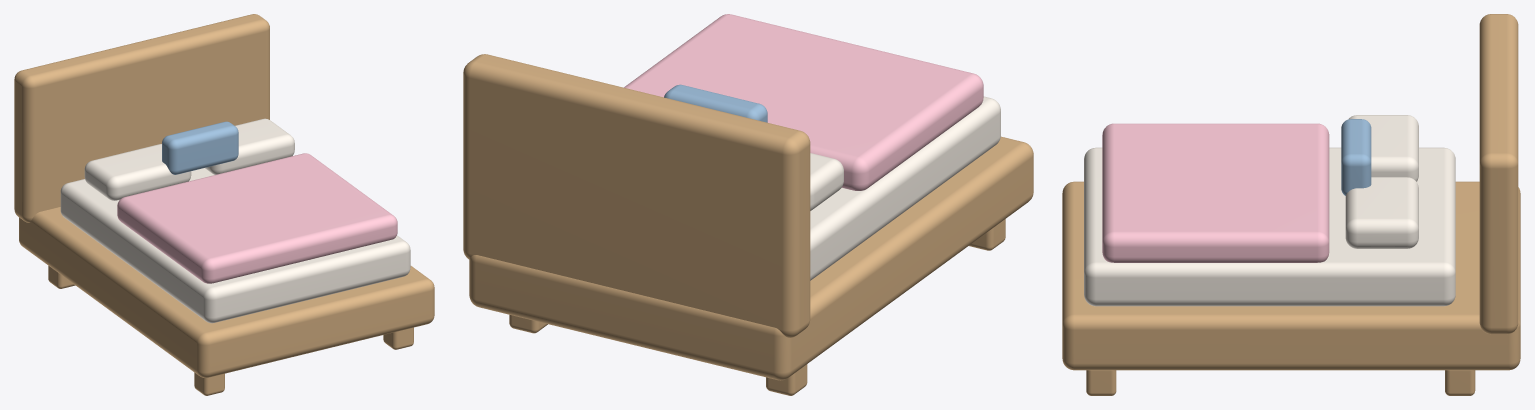
File: 目标粉木单人床.fbx
3 views of the same model, side by side, from view 1: azimuth 30°, elevation 25°; view 2: azimuth 150°, elevation 25°; view 3: azimuth 270°, elevation 25° (orthographic). The views are drawn at different scales.
Visible parts, largest first — view 1: 目标粉木单人床_木质靠背, 目标粉木单人床_浅木床架, 目标粉木单人床_柔粉被子, 目标粉木单人床_奶油床垫, 目标粉木单人床_白枕头左, 目标粉木单人床_海蓝抱枕, 目标粉木单人床_白枕头右, 目标粉木单人床_方木脚, 目标粉木单人床_方木脚.002; view 2: 目标粉木单人床_木质靠背, 目标粉木单人床_浅木床架, 目标粉木单人床_柔粉被子, 目标粉木单人床_奶油床垫, 目标粉木单人床_海蓝抱枕, 目标粉木单人床_白枕头左, 目标粉木单人床_方木脚.001, 目标粉木单人床_方木脚; view 3: 目标粉木单人床_浅木床架, 目标粉木单人床_柔粉被子, 目标粉木单人床_奶油床垫, 目标粉木单人床_木质靠背, 目标粉木单人床_白枕头右, 目标粉木单人床_白枕头左, 目标粉木单人床_海蓝抱枕, 目标粉木单人床_方木脚.003, 目标粉木单人床_方木脚.002.
Part boxes in pixels (x1,y1,x2,y2): 目标粉木单人床_木质靠背: (14,14,269,222); 目标粉木单人床_浅木床架: (19,207,434,377); 目标粉木单人床_柔粉被子: (117,153,397,283); 目标粉木单人床_奶油床垫: (60,168,410,323); 目标粉木单人床_白枕头左: (84,144,191,200); 目标粉木单人床_海蓝抱枕: (162,121,238,174); 目标粉木单人床_白枕头右: (205,118,294,174); 目标粉木单人床_方木脚: (194,372,224,395); 目标粉木单人床_方木脚.002: (383,327,413,349); 目标粉木单人床_木质靠背: (463,54,810,337); 目标粉木单人床_浅木床架: (469,136,1033,380); 目标粉木单人床_柔粉被子: (624,14,983,190); 目标粉木单人床_奶油床垫: (810,96,1000,280); 目标粉木单人床_海蓝抱枕: (664,84,767,122); 目标粉木单人床_白枕头左: (810,153,843,210); 目标粉木单人床_方木脚.001: (766,364,807,395); 目标粉木单人床_方木脚: (969,219,1005,250); 目标粉木单人床_浅木床架: (1062,181,1520,370); 目标粉木单人床_柔粉被子: (1102,123,1329,262); 目标粉木单人床_奶油床垫: (1084,147,1455,306); 目标粉木单人床_木质靠背: (1479,14,1518,334); 目标粉木单人床_白枕头右: (1345,177,1418,248); 目标粉木单人床_白枕头左: (1349,115,1418,181); 目标粉木单人床_海蓝抱枕: (1341,119,1371,195); 目标粉木单人床_方木脚.003: (1445,370,1475,395); 目标粉木单人床_方木脚.002: (1086,370,1116,395).
Bounding box in the file's own units: 162 × 128 × 212.
